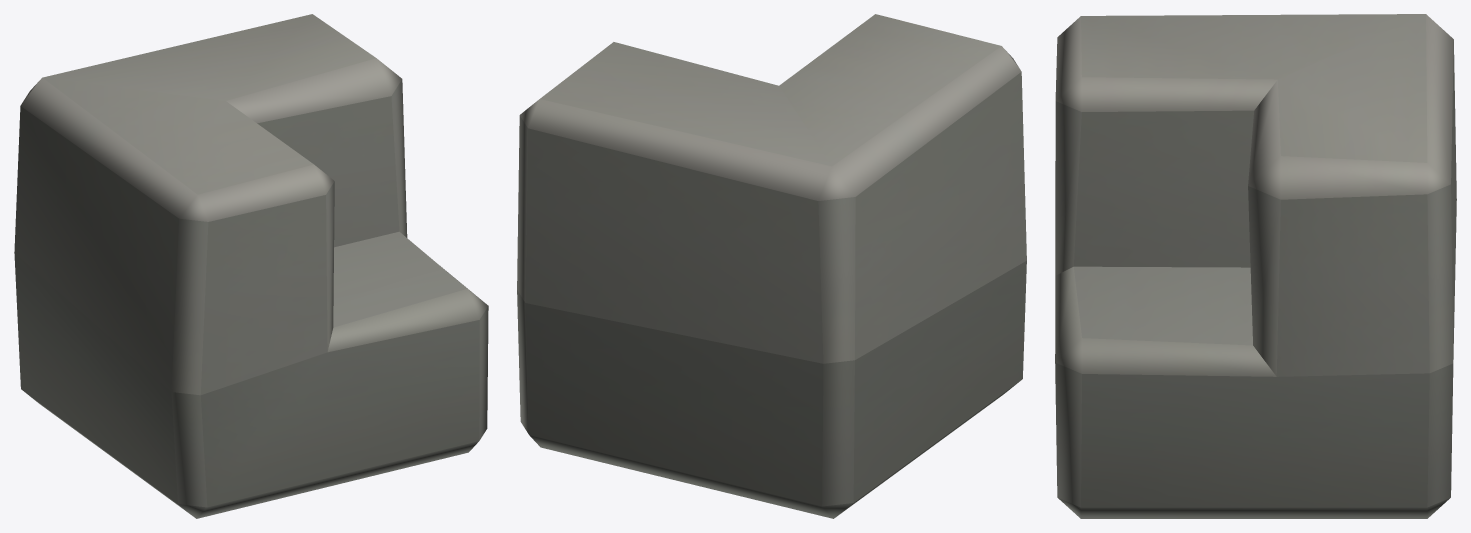
Rendered from stair_corner_conc_shade1.fbx.
3 renders of one model, left to right at view 1: azimuth 30°, elevation 25°; view 2: azimuth 150°, elevation 25°; view 3: azimuth 270°, elevation 25°, orthographic. The views are drawn at different scales.
Parts seen in each view (by area): view 1: stair_corner_conc_shade1; view 2: stair_corner_conc_shade1; view 3: stair_corner_conc_shade1.
Boxes of the visible parts, x1,y1,x2,y2 form: stair_corner_conc_shade1: (14, 14, 488, 518); stair_corner_conc_shade1: (517, 14, 1026, 518); stair_corner_conc_shade1: (1055, 14, 1456, 518).
Bounding box in the file's own units: 52.26 × 50.74 × 51.02.
